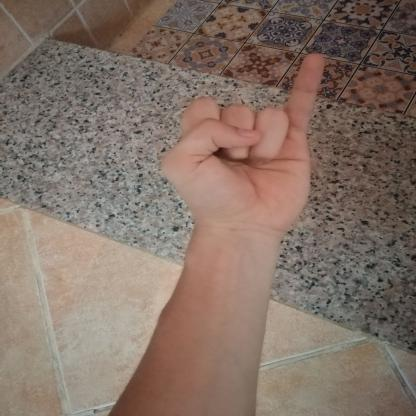MEEM: (147, 43, 340, 242)
